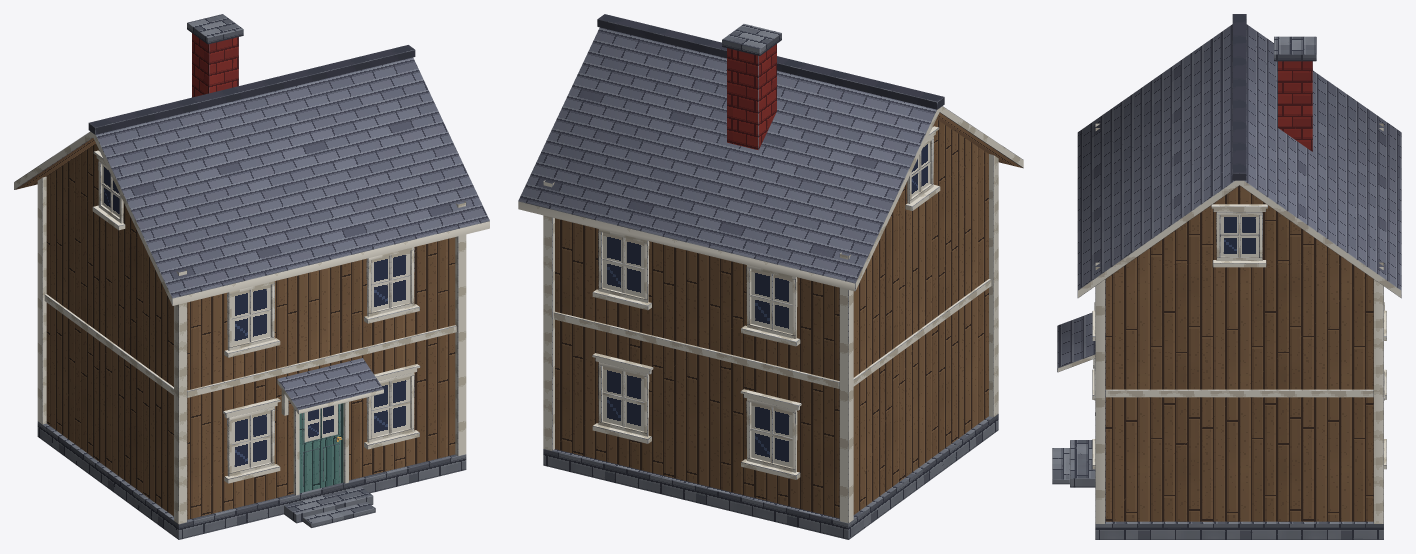
The model's file is town_house_8.glb.
3 renders of one model, left to right at view 1: azimuth 30°, elevation 25°; view 2: azimuth 150°, elevation 25°; view 3: azimuth 270°, elevation 25°, orthographic. The views are drawn at different scales.
Parts seen in each view (by area): view 1: town_house_9; view 2: town_house_9; view 3: town_house_9.
Part boxes in pixels (<box>): town_house_9: <box>14,14,489,539</box>; town_house_9: <box>518,14,1023,539</box>; town_house_9: <box>1052,14,1401,539</box>.
Bounding box in the file's own units: 7.46 × 9.12 × 6.9.
10 materials, 10 textured.
